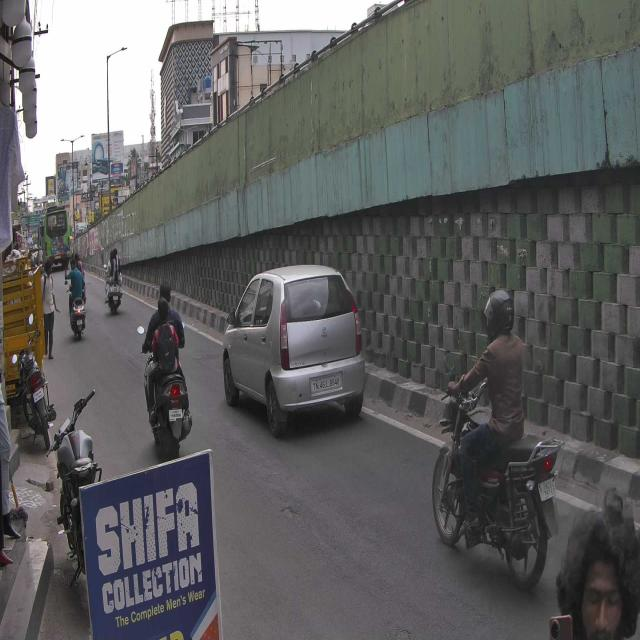double_rider: (137, 276, 193, 459)
single_rider: (435, 285, 560, 596)
